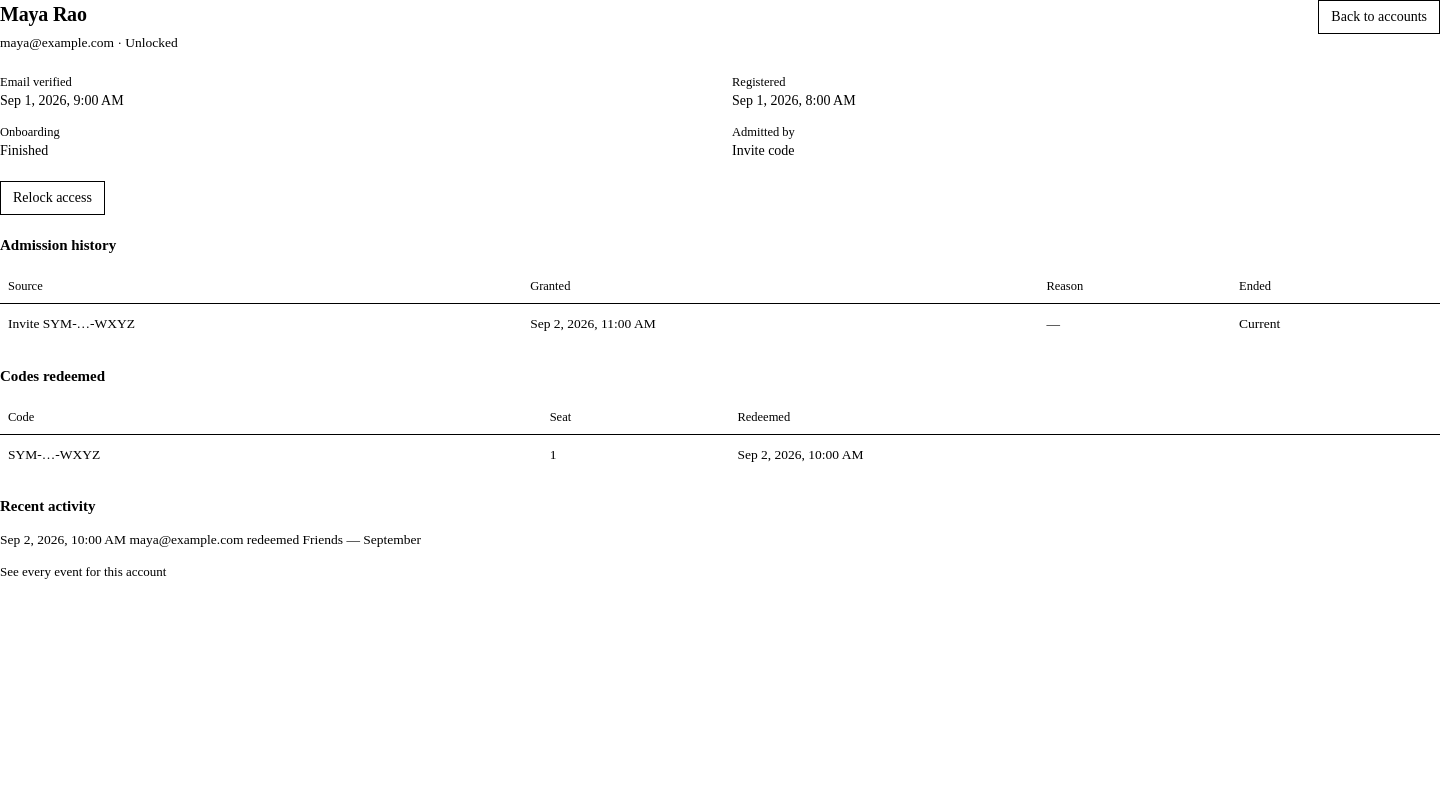
it: one account (admin_accounts.md) › explains what relocking stops, without promising external actions are undone
Click the button "Relock access" at (52, 198), box [0,181,105,215]
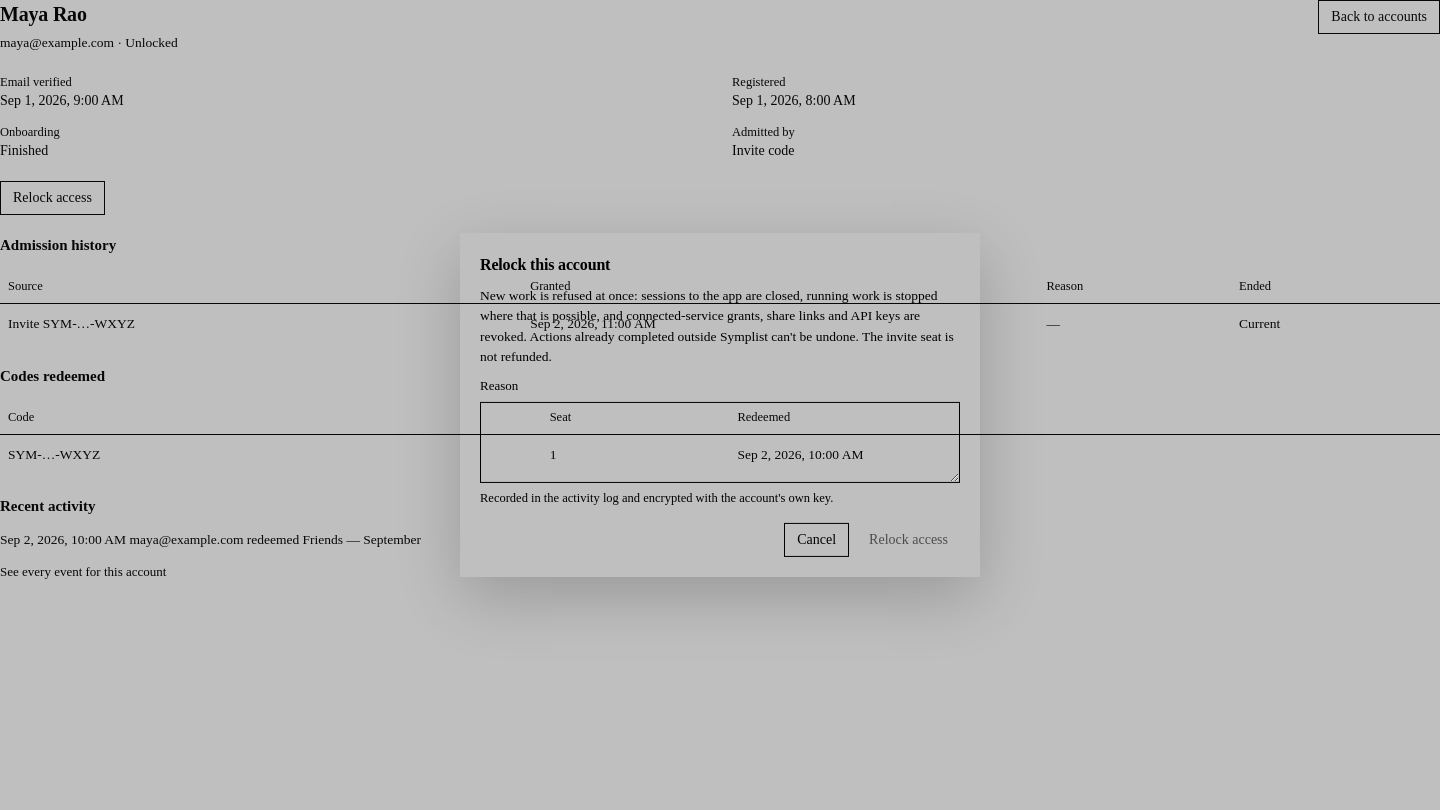
Now the dialog shows "running work is stopped where that is possible", box [480,288,954,364]
Now the dialog shows "Actions already completed outside Symplist can't be undone", box [480,288,954,364]
Now the dialog shows "The invite seat is not refunded", box [480,288,954,364]
